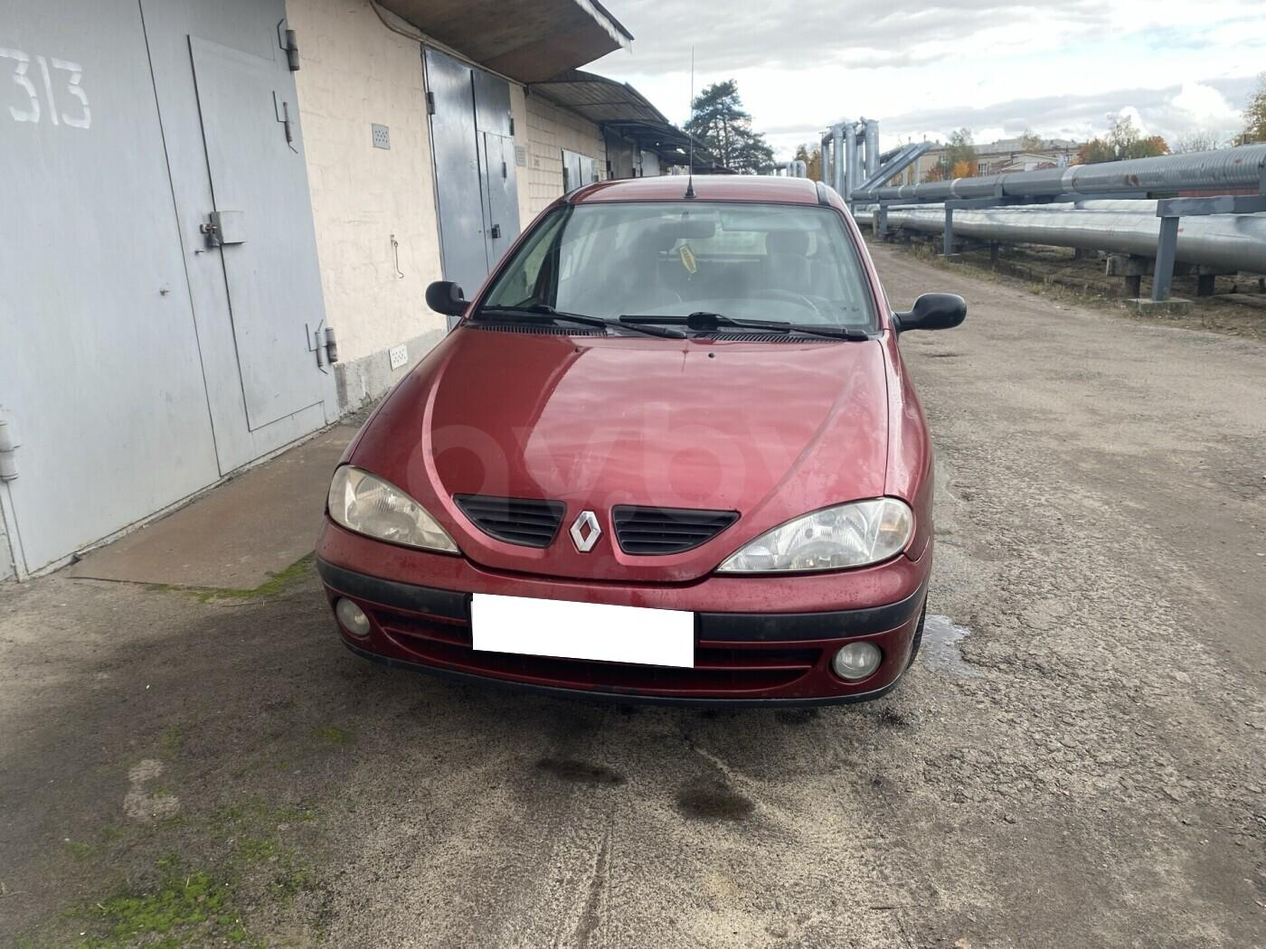Megane_1999-2003: (322, 165, 959, 723)
